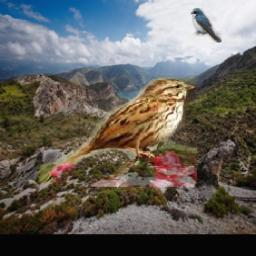Sparrow: (35, 74, 197, 187)
Swallow: (190, 9, 221, 43)
